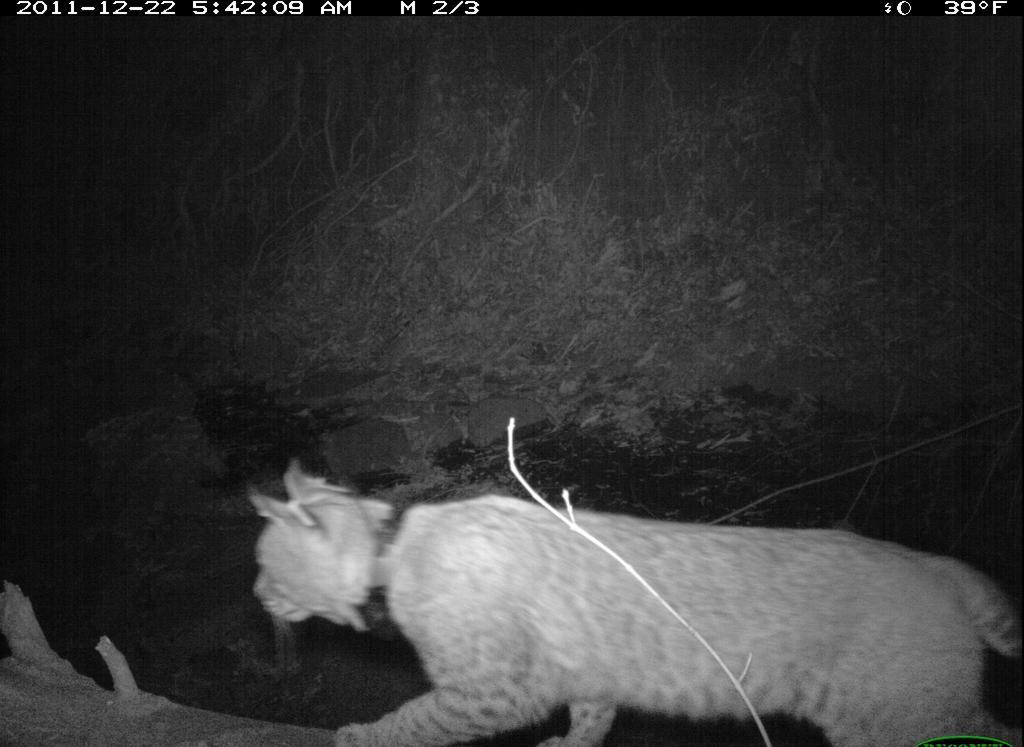bobcat: (237, 454, 1023, 747)
